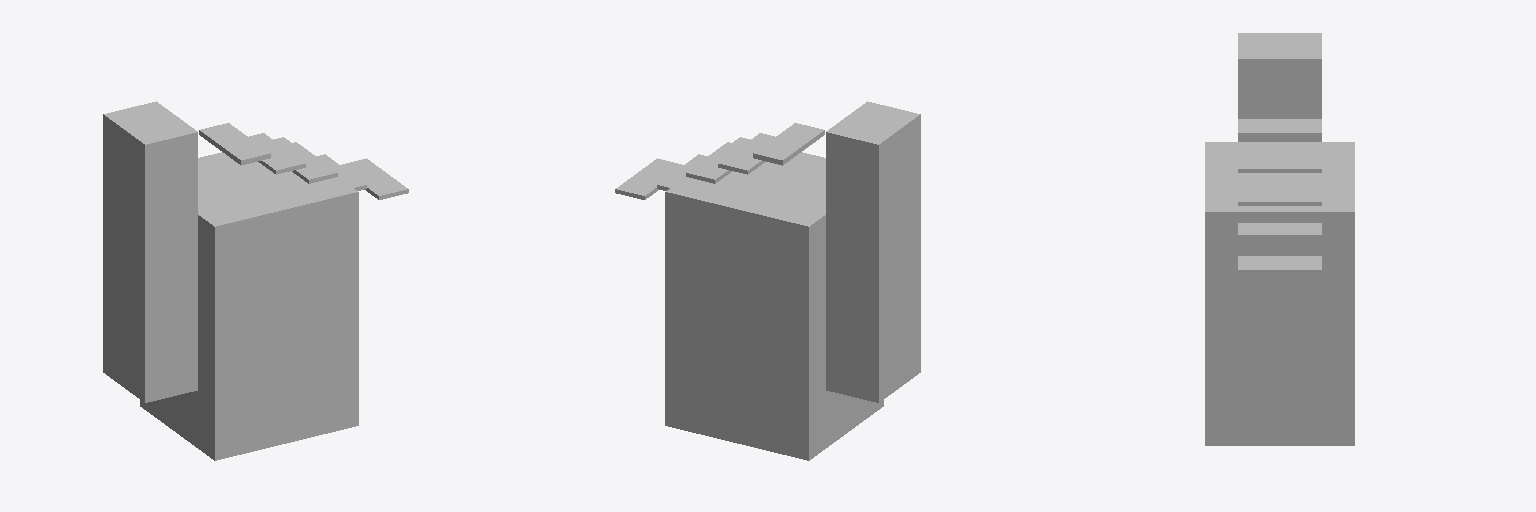
The model's file is baseplate.obj.
3 renders of one model, left to right at view 1: azimuth 30°, elevation 25°; view 2: azimuth 150°, elevation 25°; view 3: azimuth 270°, elevation 25°, orthographic.
Visible parts, largest first — view 1: Cube.001, Cube.002, Cube.008, Cube.004, Cube.007, Cube.006; view 2: Cube.001, Cube.002, Cube.008, Cube.004, Cube.007, Cube.006; view 3: Cube.001, Cube.002, Cube.008, Cube.006, Cube.007, Cube.004, Cube.003.
Boxes of the visible parts, box(x1,y1,x2,y2) form: Cube.001: box(140, 137, 358, 460); Cube.002: box(103, 101, 197, 402); Cube.008: box(199, 123, 270, 165); Cube.004: box(341, 158, 408, 199); Cube.007: box(249, 133, 305, 174); Cube.006: box(282, 142, 337, 183); Cube.001: box(665, 137, 883, 460); Cube.002: box(826, 101, 920, 402); Cube.008: box(753, 123, 824, 165); Cube.004: box(615, 158, 682, 199); Cube.007: box(718, 133, 774, 174); Cube.006: box(686, 142, 741, 183); Cube.001: box(1205, 142, 1354, 445); Cube.002: box(1238, 33, 1321, 141); Cube.008: box(1238, 119, 1321, 137); Cube.006: box(1238, 188, 1321, 205); Cube.007: box(1238, 155, 1321, 172); Cube.004: box(1238, 256, 1321, 273); Cube.003: box(1238, 223, 1321, 239).
Bounding box in the file's own units: 7.27 × 8.36 × 3.57.